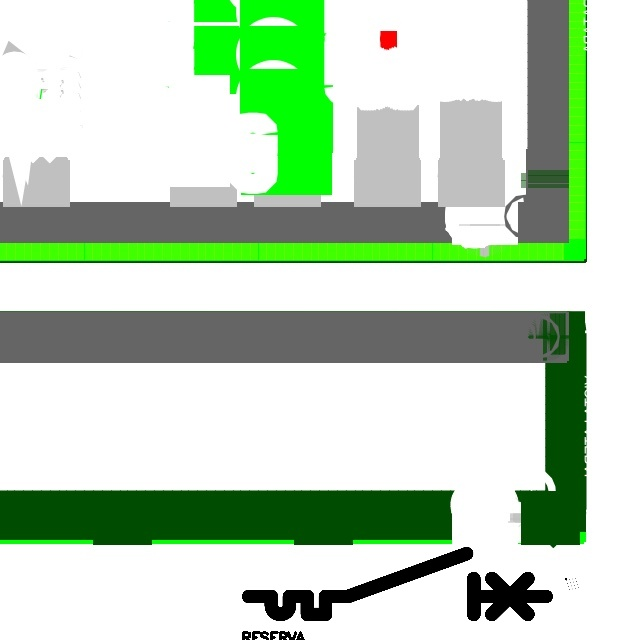interruptor_termomagnetico: (241, 546, 554, 622)
